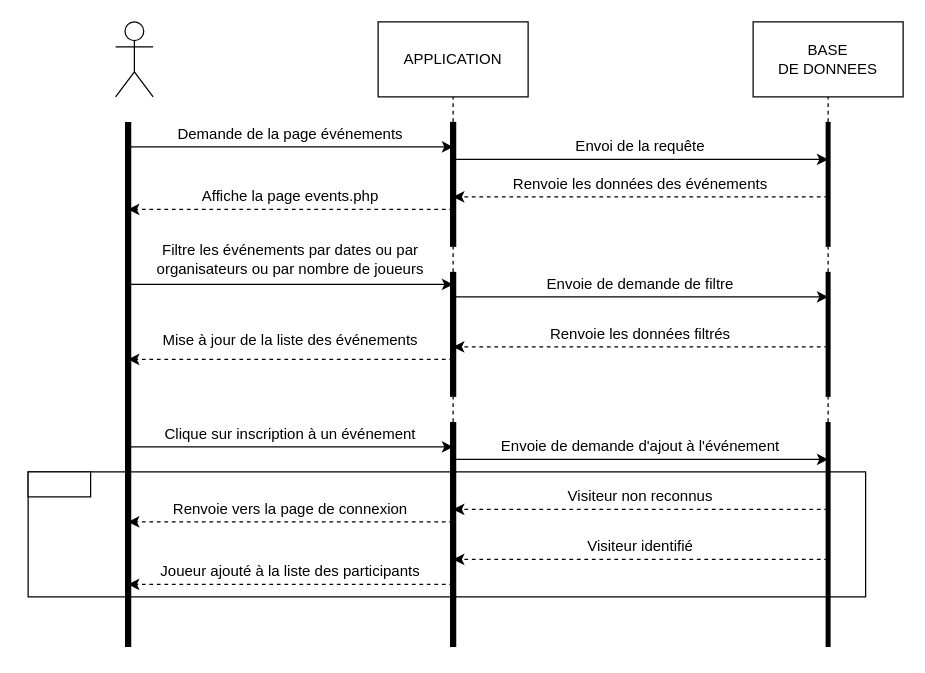
Some shapes in this 925 by 673 pixel diagram are drawn without their labels. The centre of each missing label's shape, as x and y in pixels:
Alt: the point at 59,484
VISITEUR: the point at 133,59
